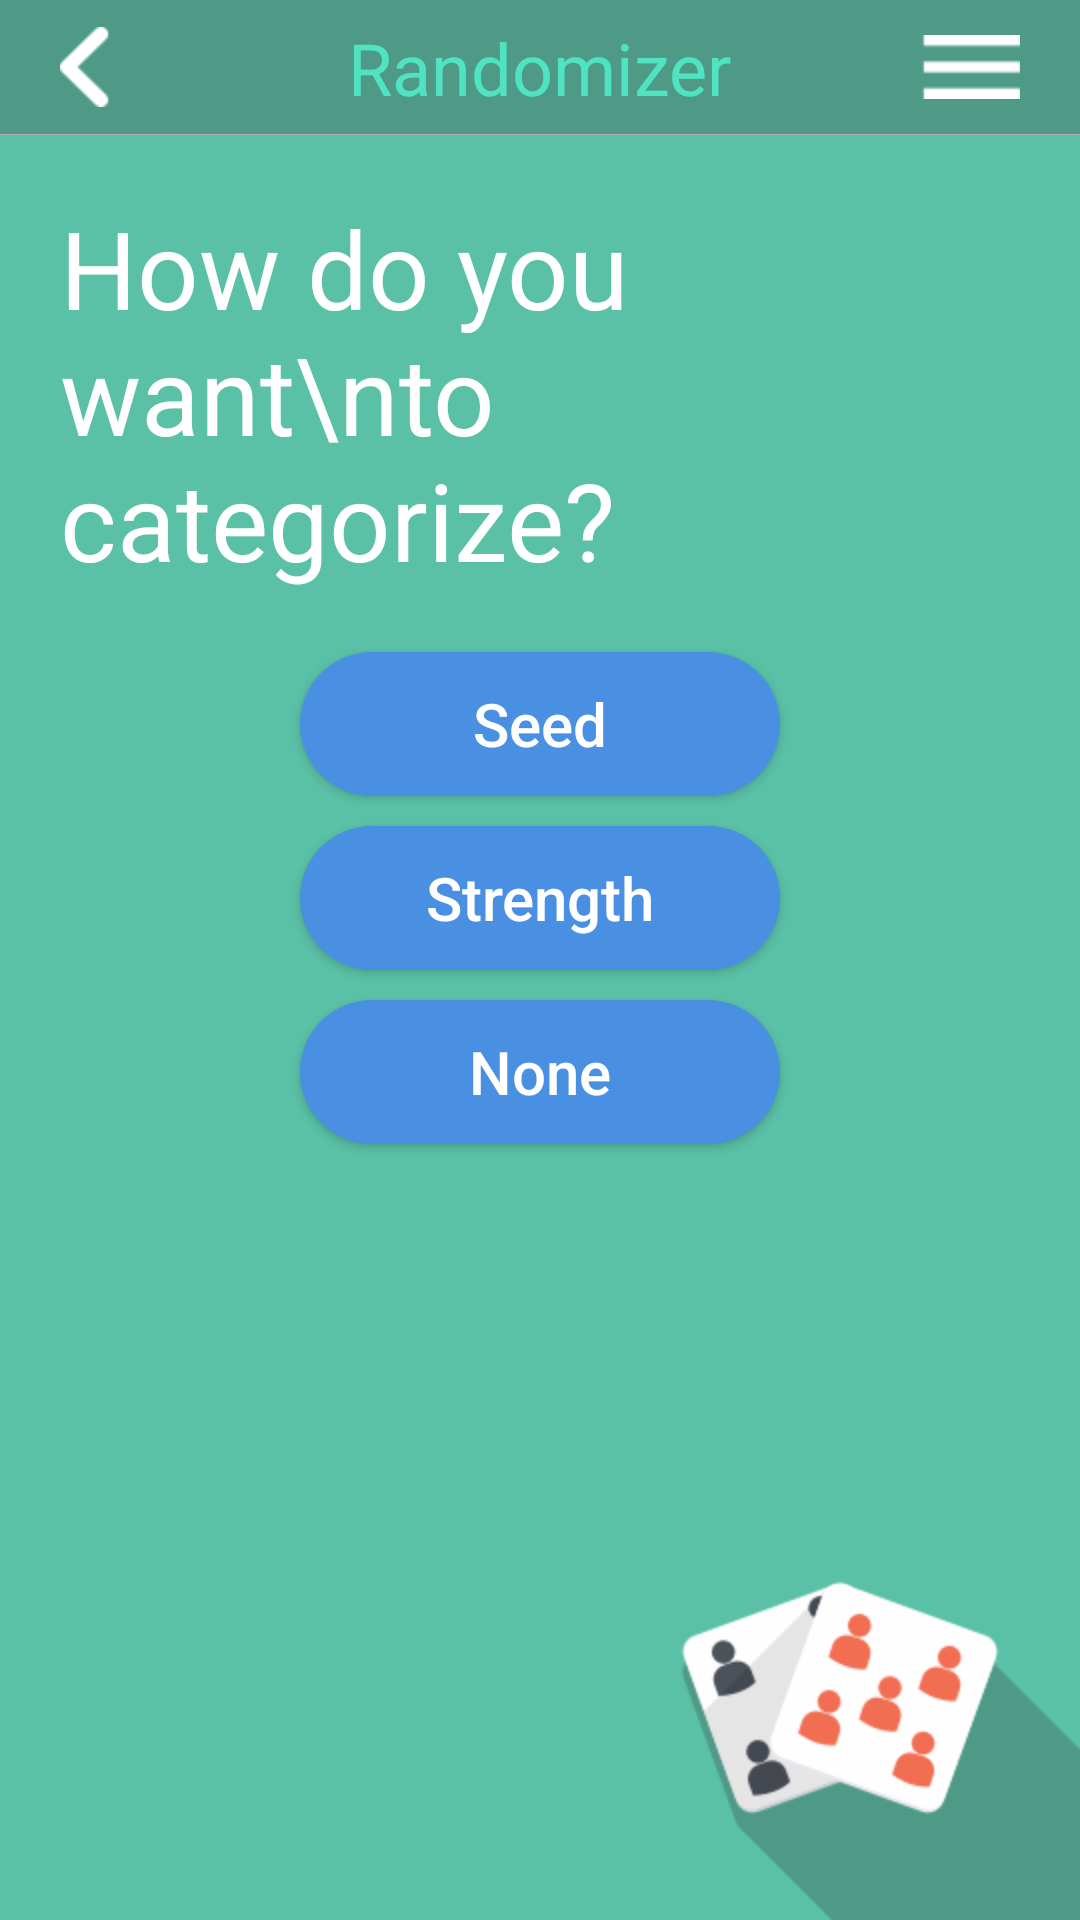

Screen size 1080 x 1920. Icon name, then its box in pixels as (x1, y1, x2, y2):
back: (60, 27, 109, 107)
menu: (923, 35, 1020, 99)
